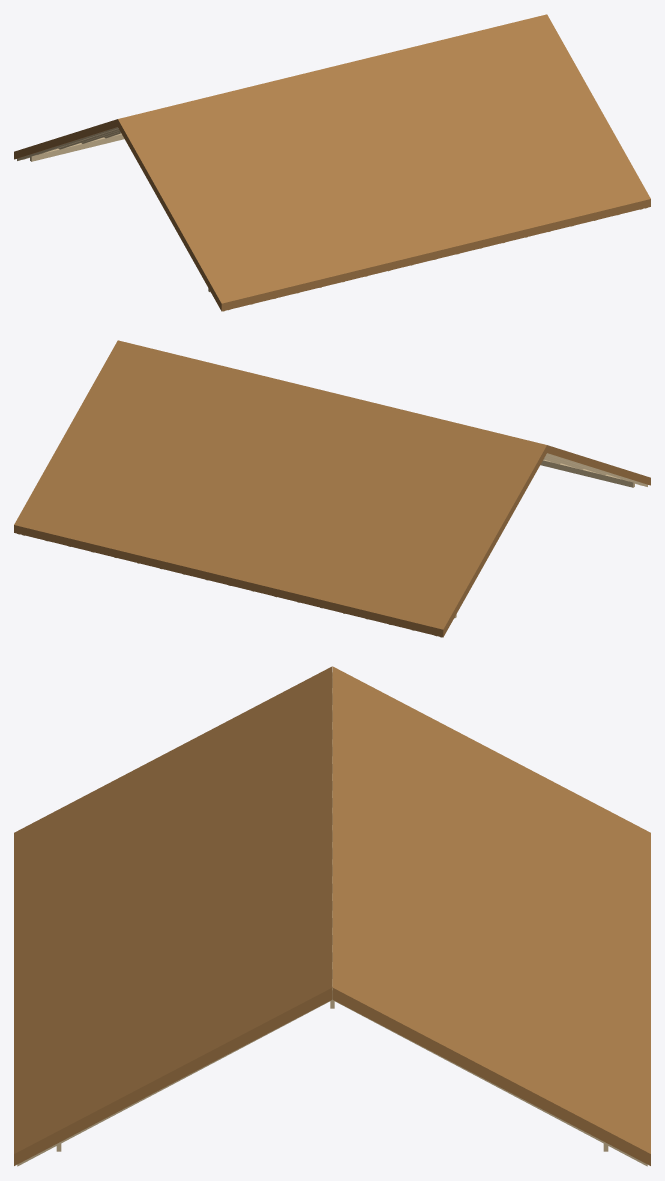
Rendered from HouseRoof.glb.
3 views of the same model, one above another, from view 1: azimuth 30°, elevation 25°; view 2: azimuth 150°, elevation 25°; view 3: azimuth 270°, elevation 25° (orthographic). The views are drawn at different scales.
Visible parts, largest first — view 1: IfcSlab/Roof2, IfcMember/Purlins, IfcSlab/Roof1; view 2: IfcSlab/Roof1, IfcMember/Purlins, IfcSlab/Roof2; view 3: IfcSlab/Roof1, IfcSlab/Roof2, IfcMember/Purlins.
Part boxes in pixels (bbox=[...]): IfcSlab/Roof2: bbox=[117, 14, 650, 311]; IfcMember/Purlins: bbox=[17, 127, 647, 311]; IfcSlab/Roof1: bbox=[14, 119, 117, 159]; IfcSlab/Roof1: bbox=[14, 340, 547, 637]; IfcMember/Purlins: bbox=[17, 453, 647, 637]; IfcSlab/Roof2: bbox=[547, 445, 650, 485]; IfcSlab/Roof1: bbox=[332, 666, 650, 1165]; IfcSlab/Roof2: bbox=[14, 666, 332, 1165]; IfcMember/Purlins: bbox=[17, 672, 647, 1166].
Bounding box in the file's own units: 13.13 × 3.45 × 11.
